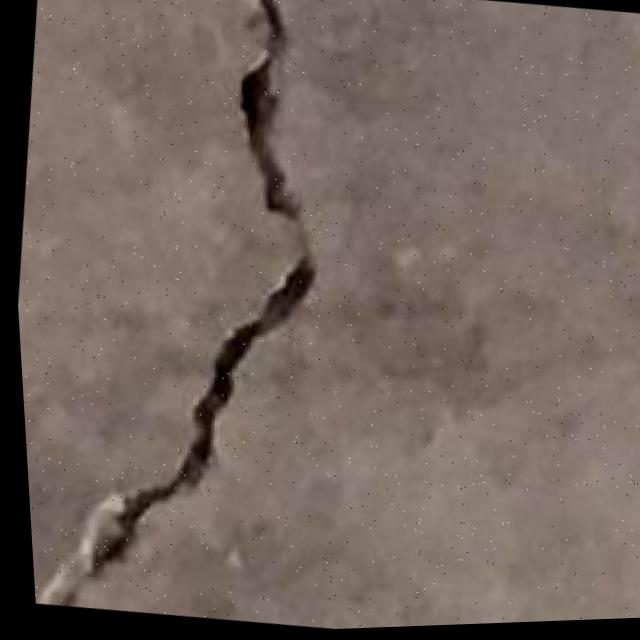Crack: (1, 0, 363, 634)
